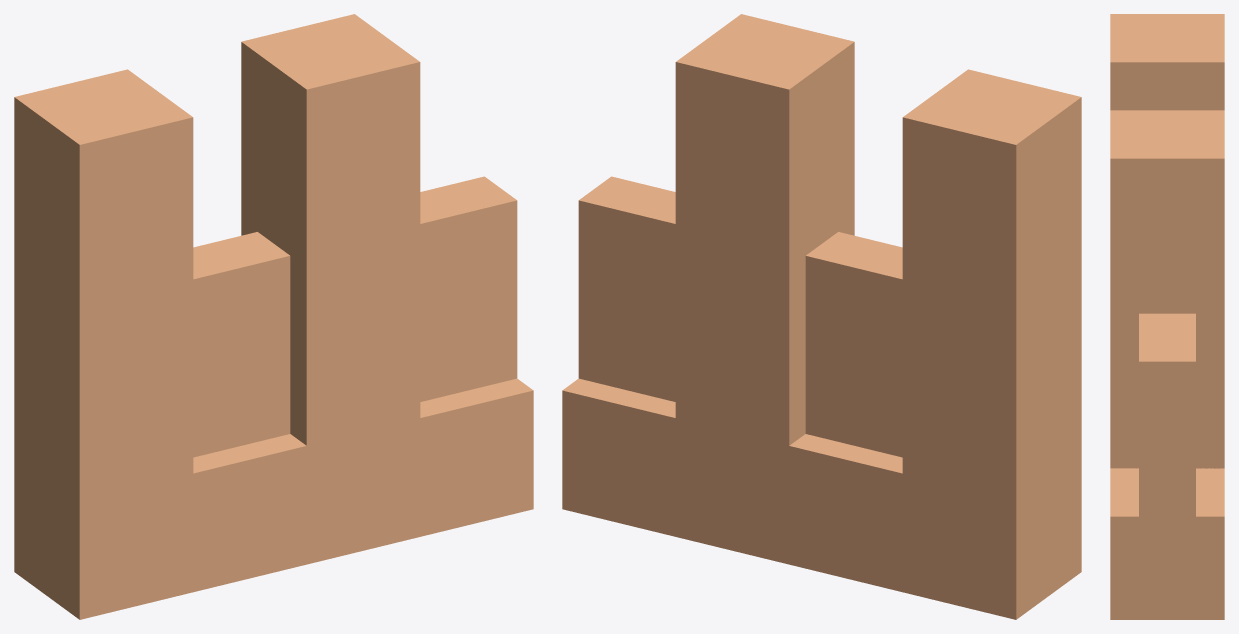
The model's file is sand-fence.glb.
3 renders of one model, left to right at view 1: azimuth 30°, elevation 25°; view 2: azimuth 150°, elevation 25°; view 3: azimuth 270°, elevation 25°, orthographic. The views are drawn at different scales.
Visible parts, largest first — view 1: generated(Clone); view 2: generated(Clone); view 3: generated(Clone).
Boxes of the visible parts, box(x1,y1,x2,y2) form: generated(Clone): box(14, 14, 533, 619); generated(Clone): box(562, 14, 1081, 619); generated(Clone): box(1110, 14, 1224, 619).
Bounding box in the file's own units: 8 × 8 × 2.
Materials: 1 (1 with a texture image).
